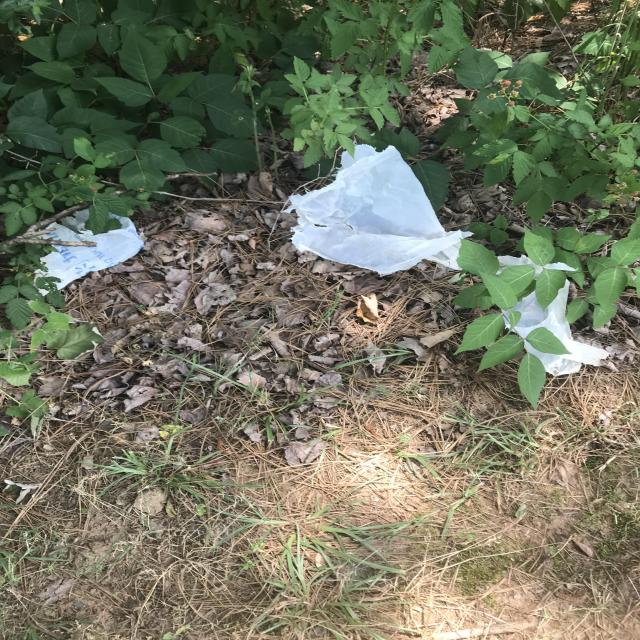litter: (322, 192, 394, 254)
